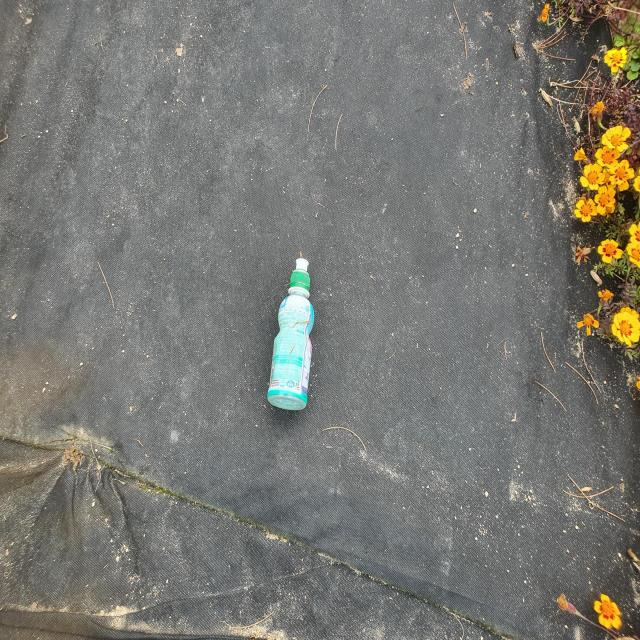plastic: (267, 258, 314, 410)
